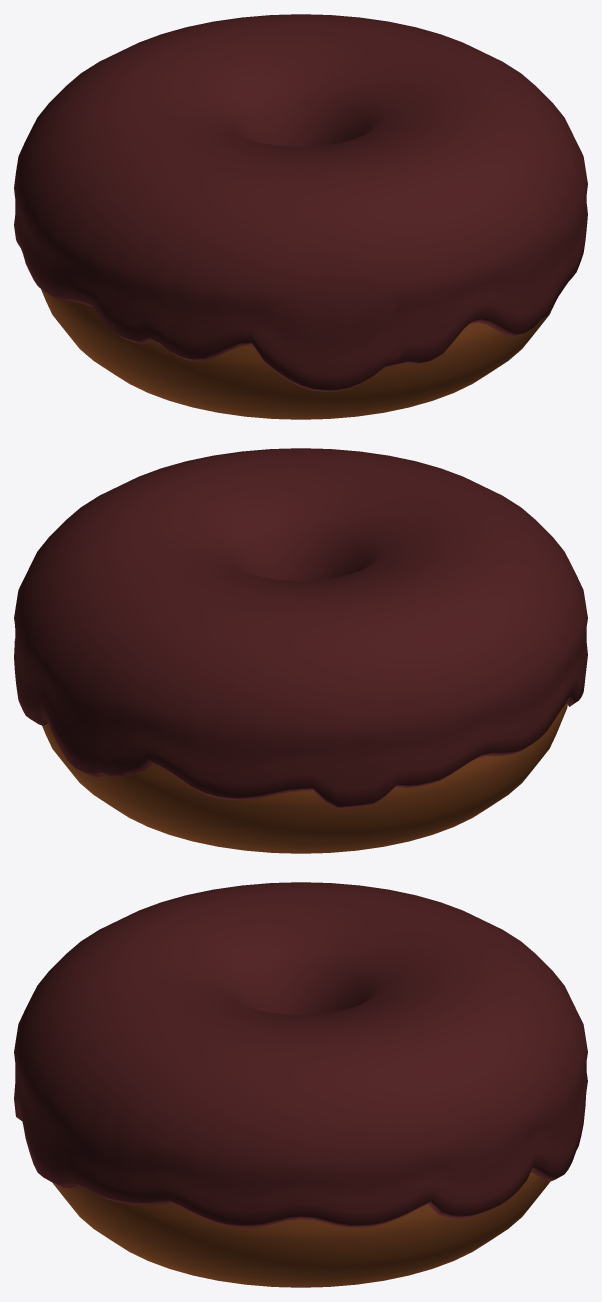
Rendered from double_chocolate.fbx.
3 views of the same model, one above another, from view 1: azimuth 30°, elevation 25°; view 2: azimuth 150°, elevation 25°; view 3: azimuth 270°, elevation 25° (orthographic).
Visible parts, largest first — view 1: double chocolate.001; view 2: double chocolate.001; view 3: double chocolate.001.
Part boxes in pixels (x1,y1,x2,y2): double chocolate.001: [14, 14, 587, 419]; double chocolate.001: [14, 448, 587, 853]; double chocolate.001: [14, 882, 587, 1287].
Bounding box in the file's own units: 266 × 125 × 266.
